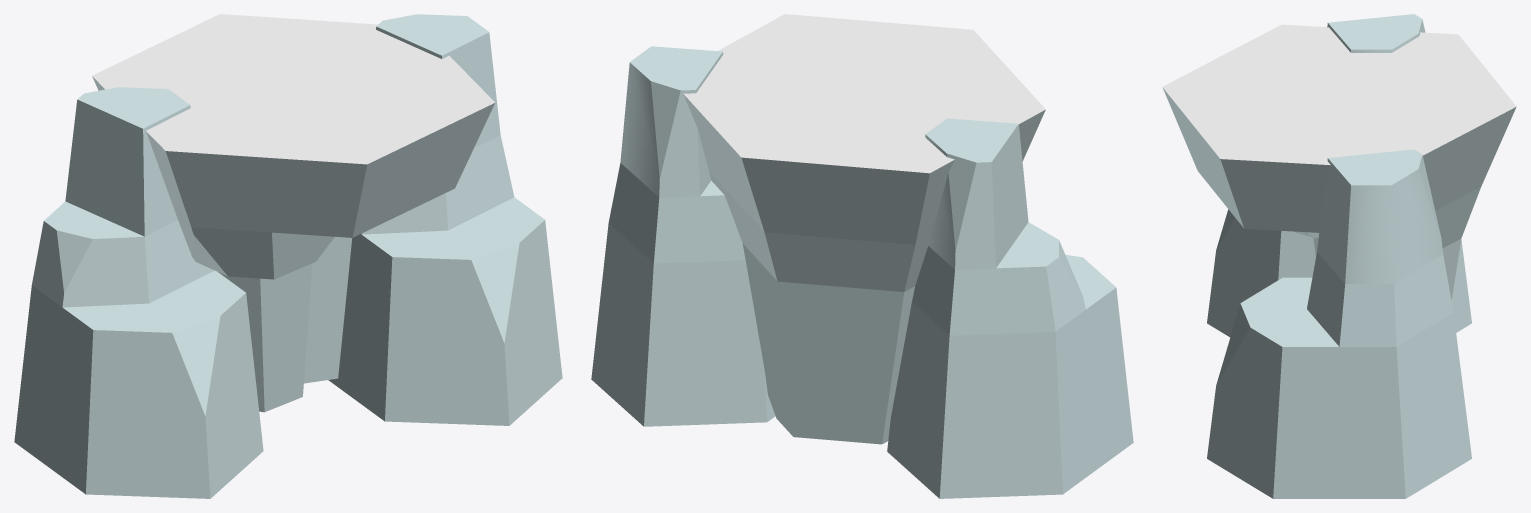
The model's file is BreakableWal2.fbx.
The picture shows the model from 3 angles, left to right: view 1: azimuth 30°, elevation 25°; view 2: azimuth 150°, elevation 25°; view 3: azimuth 270°, elevation 25°; orthographic projection. The views are drawn at different scales.
Parts seen in each view (by area): view 1: stone_tallG2; view 2: stone_tallG2; view 3: stone_tallG2.
Boxes of the visible parts, box(x1,y1,x2,y2) form: stone_tallG2: box(14, 14, 562, 498); stone_tallG2: box(591, 14, 1133, 498); stone_tallG2: box(1162, 14, 1516, 498).
Size of the model in its own units: 11.65 by 7.54 by 8.09.
